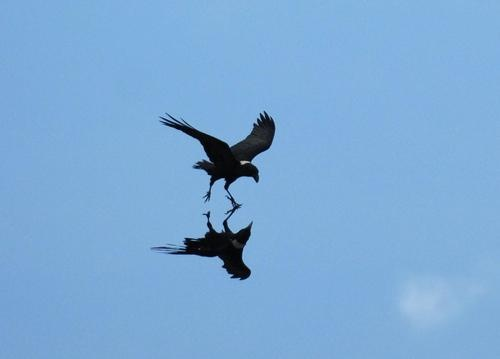bird: (161, 107, 275, 200), (141, 211, 260, 280)
